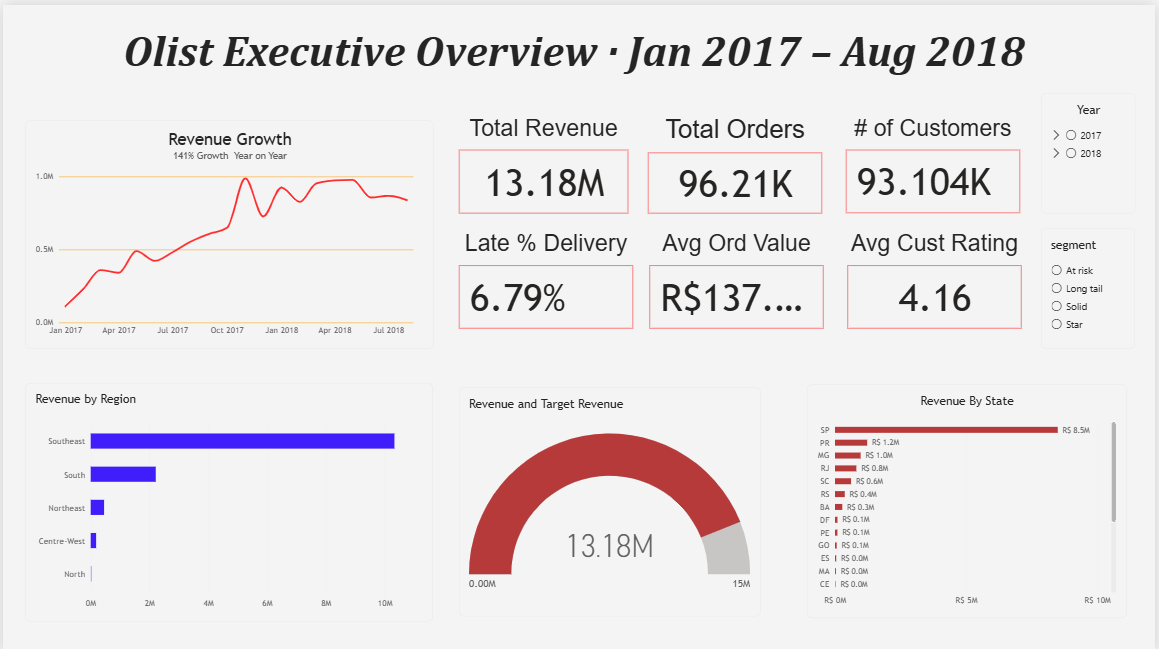

Layout of this report page (visuals, bound fields, positions):
{"tool":"powerbi","page":{"name":"Page 1","canvas":[1920,1080],"ordinal":0},"visuals":[{"type":"cardVisual","title":"Total Revenue","fields":{"Data":["pbi_fact_sales.Revenue"]},"box":[760,180,282.5,167.5],"z":0},{"type":"lineChart","title":"Revenue Growth ","fields":{"Category":["pbi_fact_sales.purchase_date.Variation.Date Hierarchy.Year","pbi_fact_sales.purchase_date.Variation.Date Hierarchy.Month"],"Y":["pbi_fact_sales.Revenue"]},"box":[37.5,285,680,380],"z":1000},{"type":"textbox","box":[378.1,31.2,1209.4,140.6],"z":1001},{"type":"barChart","title":"Revenue by Region","fields":{"Category":["pbi_dim_seller.seller_region"],"Y":["pbi_fact_sales.Revenue"]},"box":[37.5,697.5,680,330],"z":1002},{"type":"listSlicer","fields":{"Values":["pbi_dim_seller.segment"]},"box":[1730,373.3,156.7,200],"z":1003},{"type":"clusteredBarChart","title":"Revenue By State","fields":{"Category":["pbi_dim_seller.seller_state"],"Y":["pbi_fact_sales.Revenue"]},"box":[1406.7,636.7,456.7,390],"z":1004},{"type":"listSlicer","fields":{"Values":["pbi_fact_sales.purchase_date.Variation.Date Hierarchy.Year","pbi_fact_sales.purchase_date.Variation.Date Hierarchy.Quarter","pbi_fact_sales.purchase_date.Variation.Date Hierarchy.Month","pbi_fact_sales.purchase_date.Variation.Date Hierarchy.Day"]},"box":[1730,146.7,157.3,200],"z":1005},{"type":"gauge","fields":{"MaxValue":["pbi_dim_seller.Target Revenue"],"Y":["pbi_fact_sales.Revenue"]},"box":[35,32.5,380,210],"z":1006},{"type":"cardVisual","title":"Total Orders","fields":{"Data":["pbi_fact_sales.Orders"]},"box":[1075,180,290,167.5],"z":1007},{"type":"cardVisual","title":"# of Customers","fields":{"Data":["Count(pbi_fact_orders.customer_unique_id)"]},"box":[1405,180,290,166.7],"z":1008},{"type":"cardVisual","title":"Late % Delivery","fields":{"Data":["pbi_fact_orders.Late %"]},"box":[760,373.3,290,166.7],"z":1009},{"type":"cardVisual","title":"Avg Ord Value","fields":{"Data":["pbi_fact_orders.Avg Order Value"]},"box":[1076.7,373.3,290,166.7],"z":1010},{"type":"cardVisual","title":"Avg Ord Value","fields":{"Data":["pbi_dim_seller.Avg Review"]},"box":[1406.7,373.3,290,166.7],"z":1011}]}

Visuals, with their boxes in screenshot pixels (x1, y1, x2, y2), scaled from the page's 1920x1080 canvas onto the 1159x649 screenshot:
"Total Revenue" cardVisual: bbox(459, 108, 629, 209)
"Revenue Growth " lineChart: bbox(23, 171, 433, 400)
textbox: bbox(228, 19, 958, 103)
"Revenue by Region" barChart: bbox(23, 419, 433, 617)
listSlicer - pbi_dim_seller.segment: bbox(1044, 224, 1139, 345)
"Revenue By State" clusteredBarChart: bbox(849, 383, 1125, 617)
listSlicer - pbi_fact_sales.purchase_date.Variation.Date Hierarchy.Year x pbi_fact_sales.purchase_date.Variation.Date Hierarchy.Quarter: bbox(1044, 88, 1139, 208)
gauge - pbi_dim_seller.Target Revenue x pbi_fact_sales.Revenue: bbox(21, 20, 251, 146)
"Total Orders" cardVisual: bbox(649, 108, 824, 209)
"# of Customers" cardVisual: bbox(848, 108, 1023, 208)
"Late % Delivery" cardVisual: bbox(459, 224, 634, 324)
"Avg Ord Value" cardVisual: bbox(650, 224, 825, 324)
"Avg Ord Value" cardVisual: bbox(849, 224, 1024, 324)
